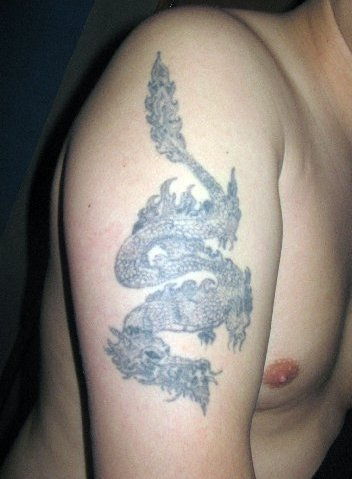tatu6_drakon: (84, 30, 281, 414)
